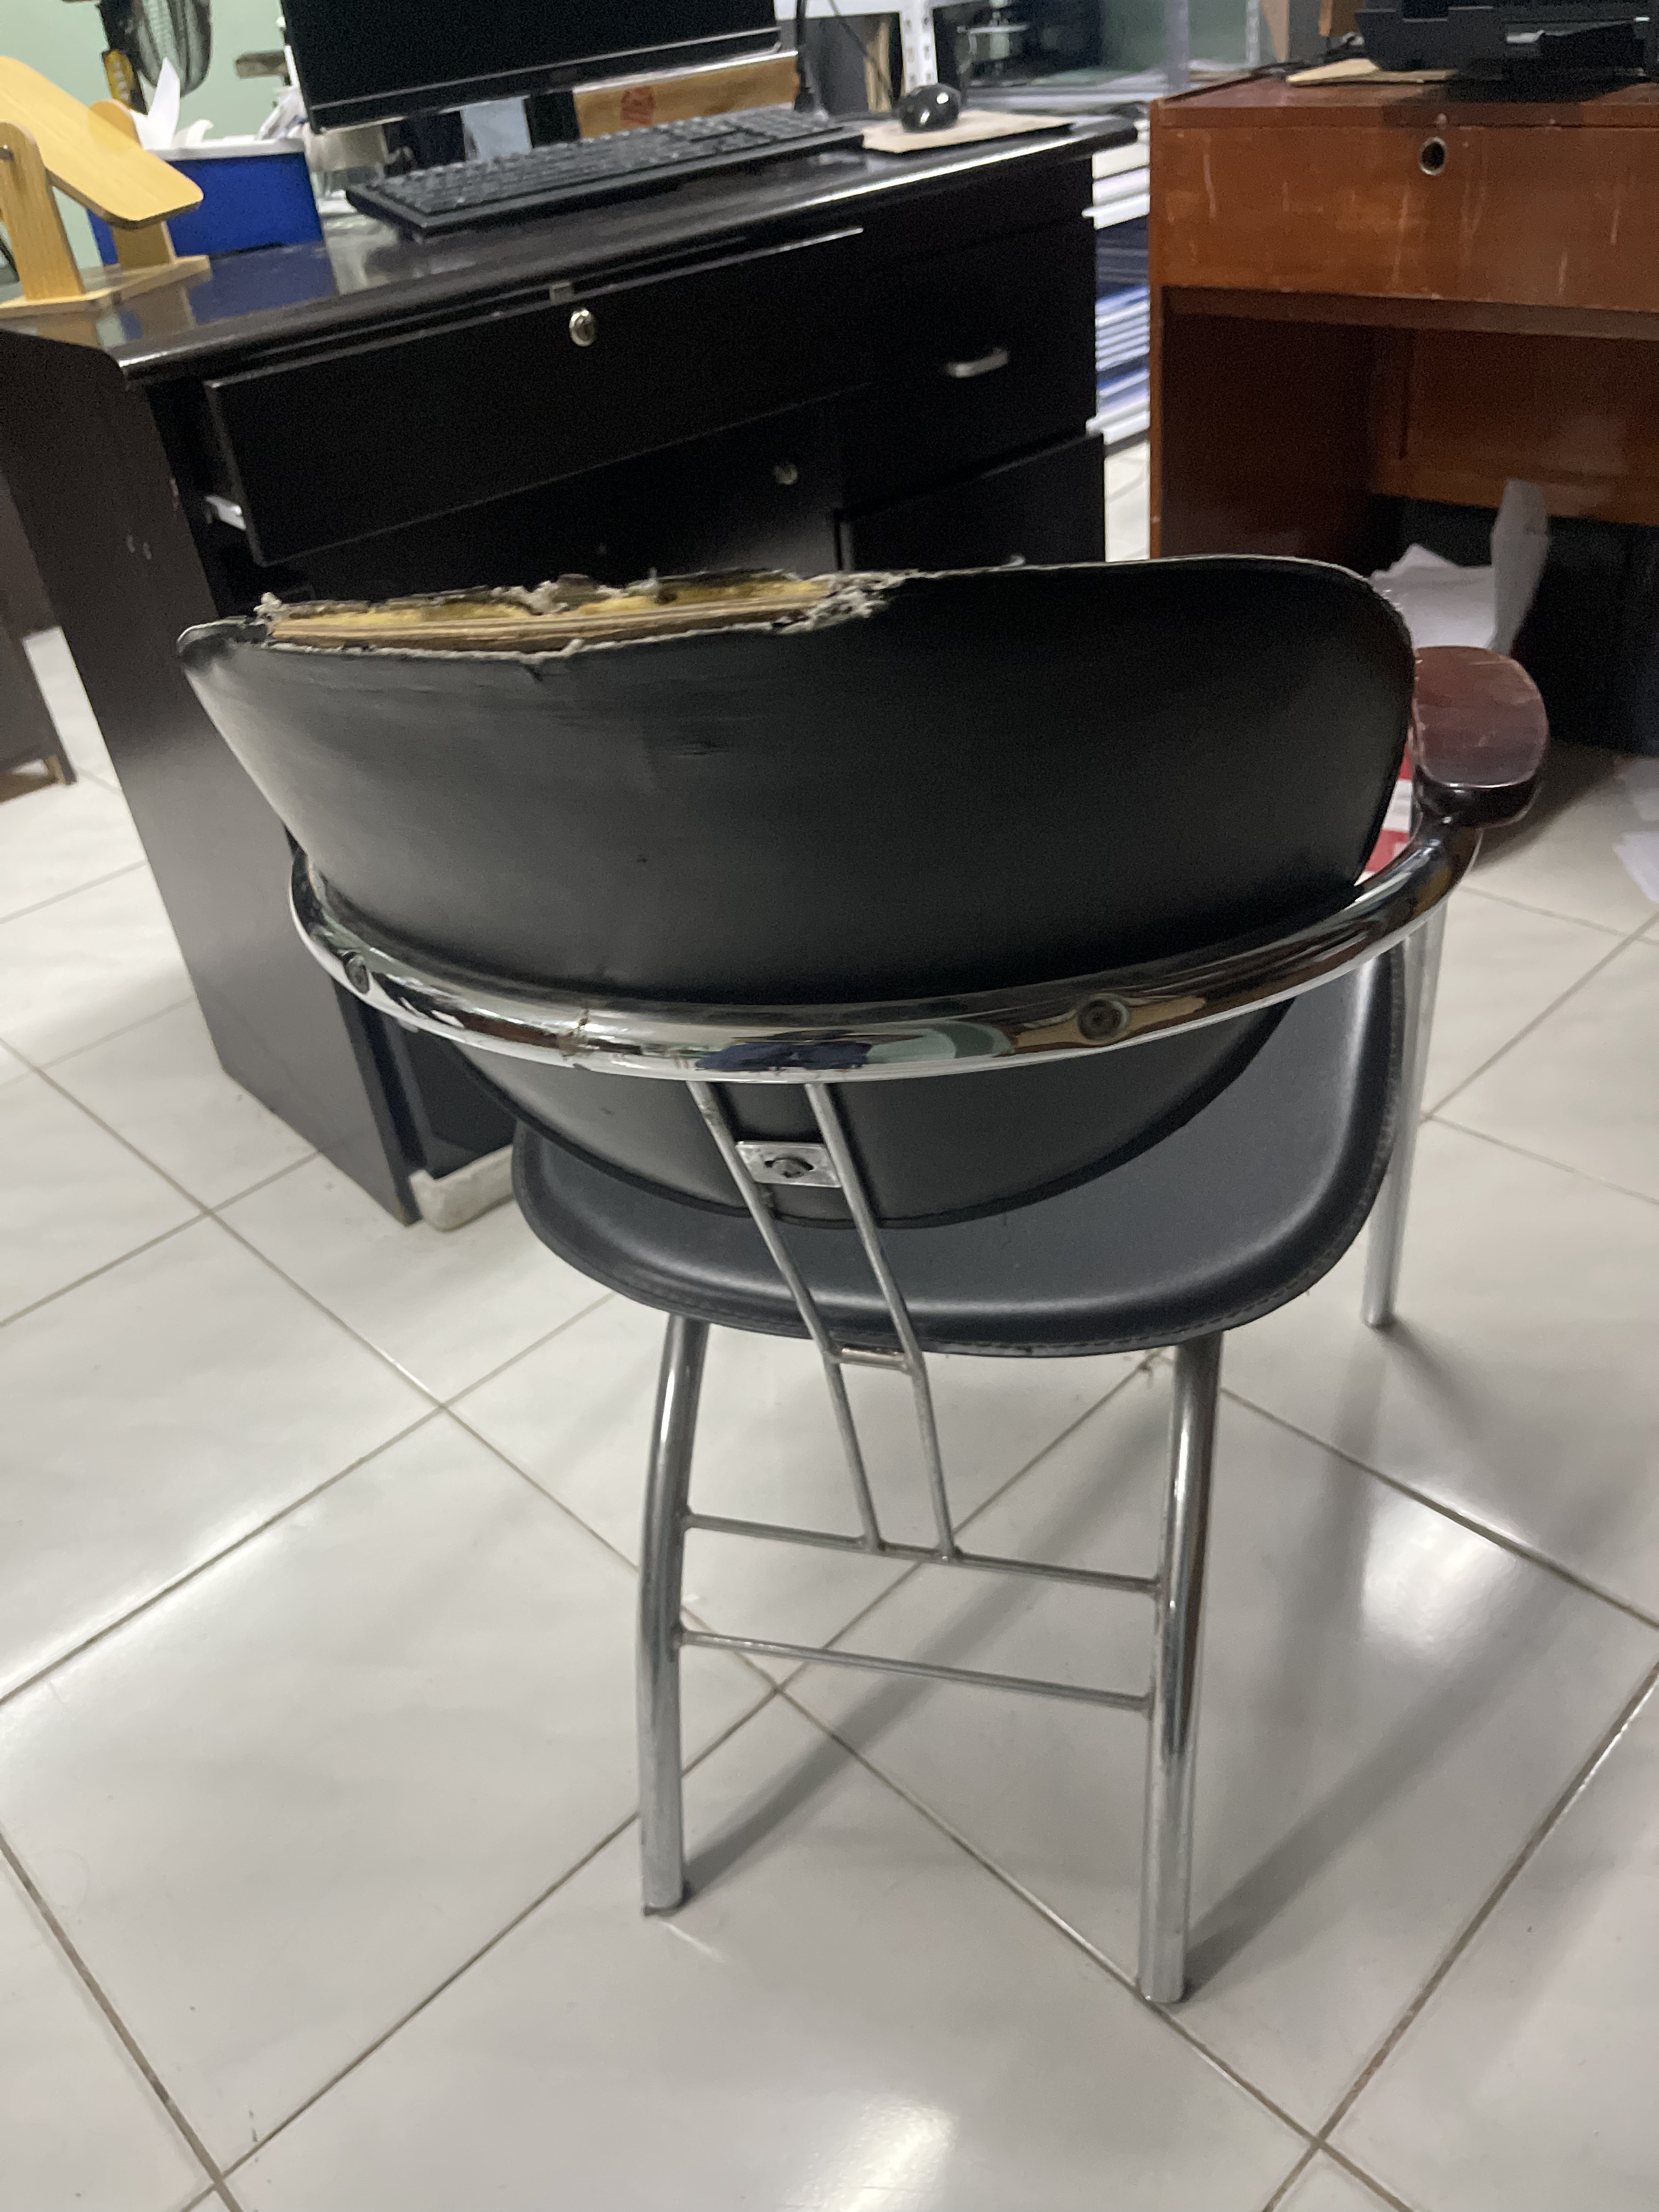chair1: (166, 536, 1659, 2012)
